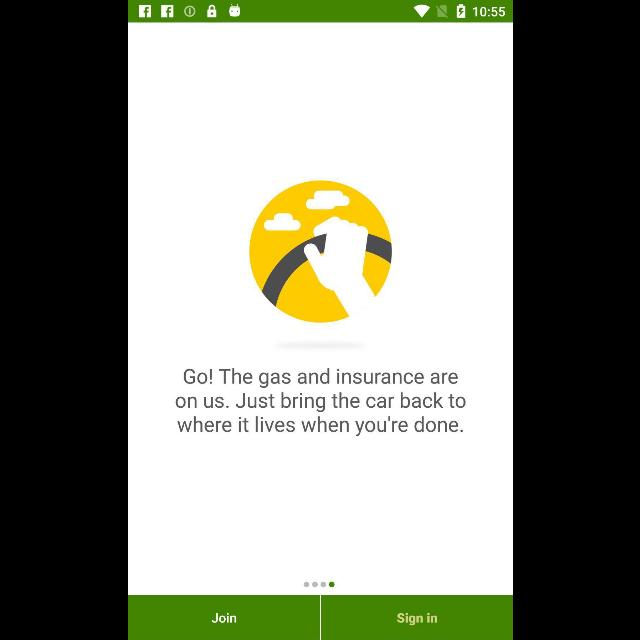image: (248, 181, 392, 323)
pageindicator: (304, 581, 334, 587)
text: (174, 369, 466, 437)
textbutton: (320, 596, 512, 640), (128, 596, 318, 640)
uppertaskbar: (128, 1, 512, 23)
